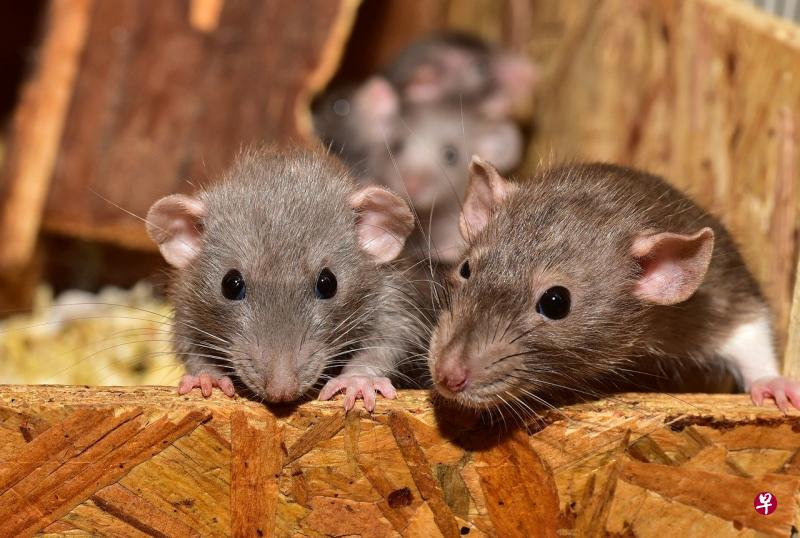mouse: (439, 171, 779, 432), (132, 162, 404, 423), (333, 73, 538, 200)
